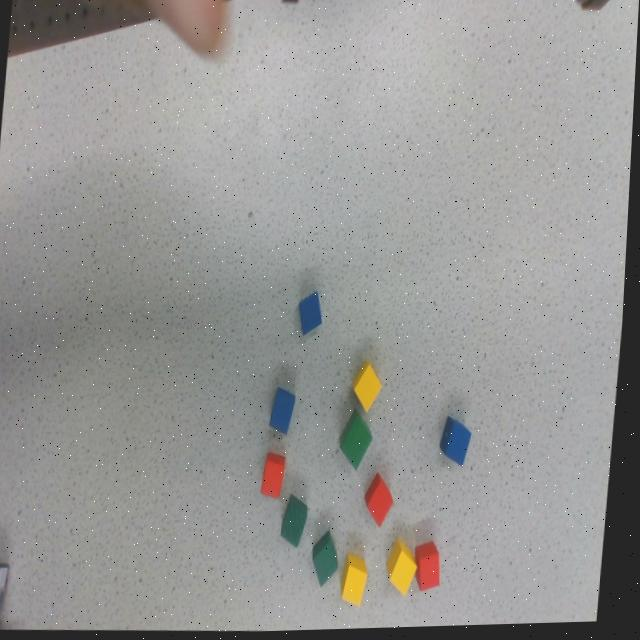blue_cube: (440, 419, 477, 467), (270, 389, 301, 435), (299, 293, 325, 336)
green_cube: (332, 409, 385, 471), (310, 533, 350, 587), (280, 495, 317, 547)
red_cube: (360, 474, 407, 528), (419, 543, 445, 593), (264, 453, 289, 498)
yellow_cube: (381, 541, 430, 597), (347, 363, 391, 413), (342, 555, 375, 607)
